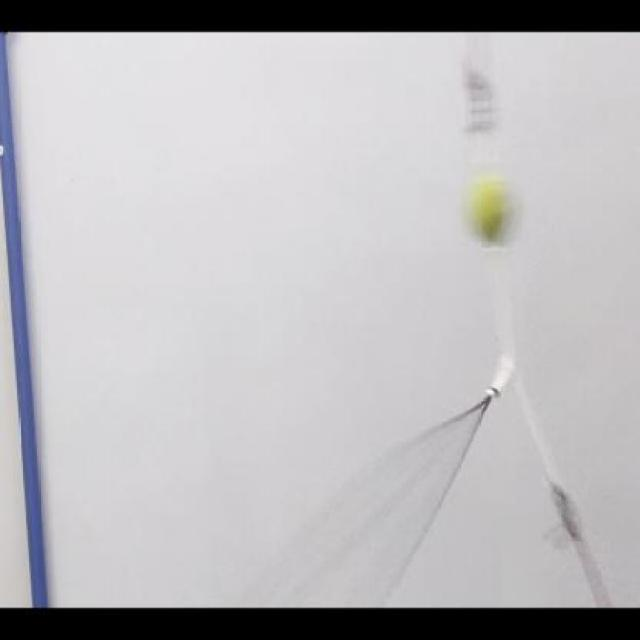baseball: (462, 167, 518, 244)
